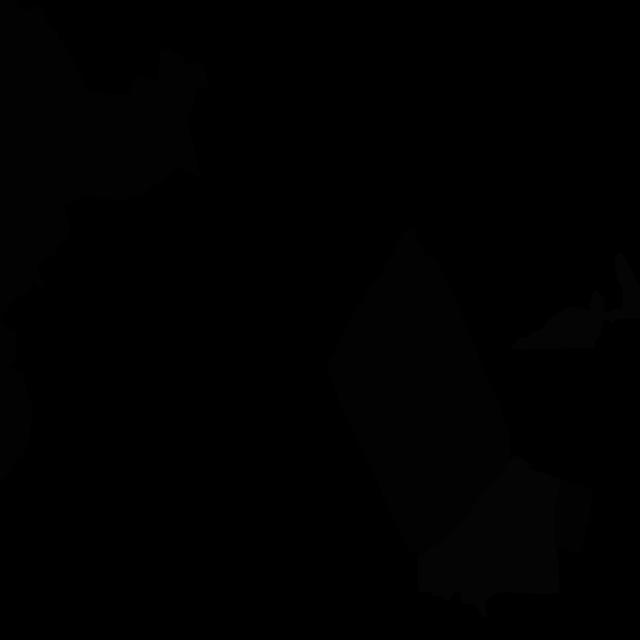cardboard: (327, 228, 510, 555), (80, 46, 208, 199), (0, 315, 33, 483), (554, 479, 594, 553)
soft_plastic: (418, 455, 562, 617), (511, 307, 603, 349), (589, 252, 640, 323)
